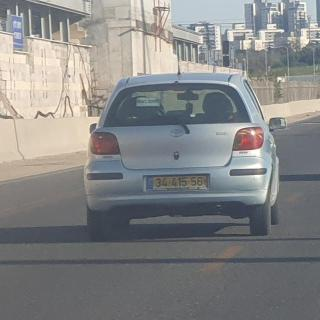LicensePlate: (153, 176, 207, 188)
